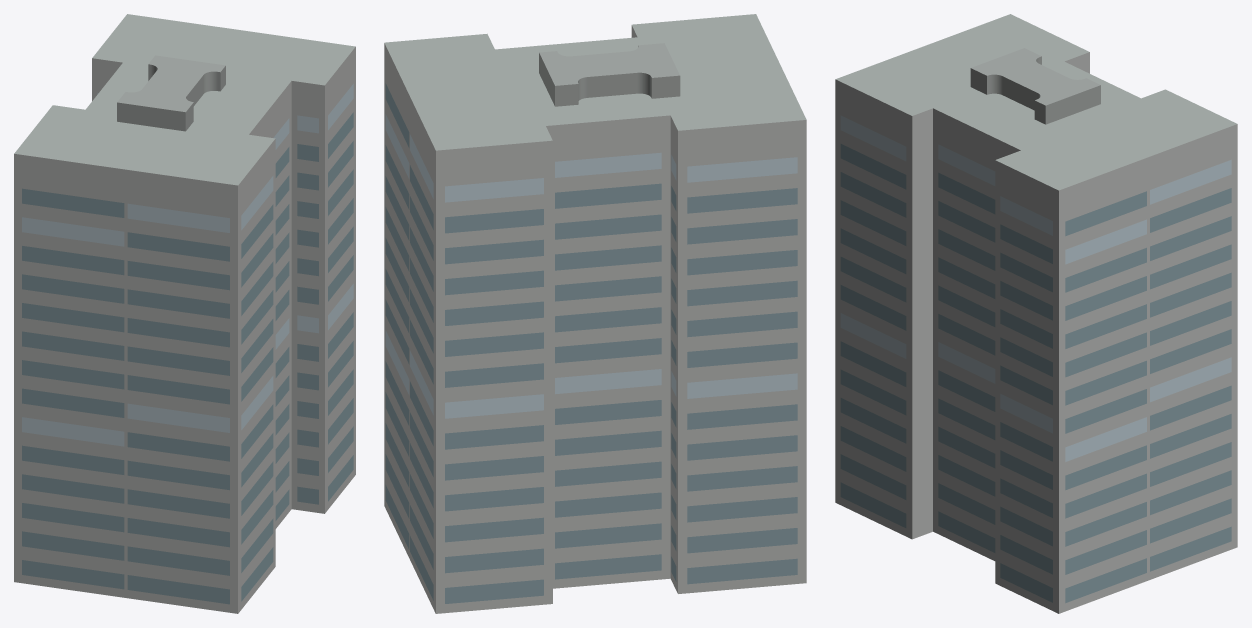
File: apt-a10024822.glb
3 renders of one model, left to right at view 1: azimuth 30°, elevation 25°; view 2: azimuth 150°, elevation 25°; view 3: azimuth 270°, elevation 25°, orthographic. The views are drawn at different scales.
Visible parts, largest first — view 1: apt-a10024822; view 2: apt-a10024822; view 3: apt-a10024822.
Part boxes in pixels (bbox=[...]): apt-a10024822: bbox=[14, 14, 355, 613]; apt-a10024822: bbox=[384, 14, 806, 613]; apt-a10024822: bbox=[835, 14, 1237, 613].
Size of the model in its own units: 40.92 by 47.81 by 39.4.
